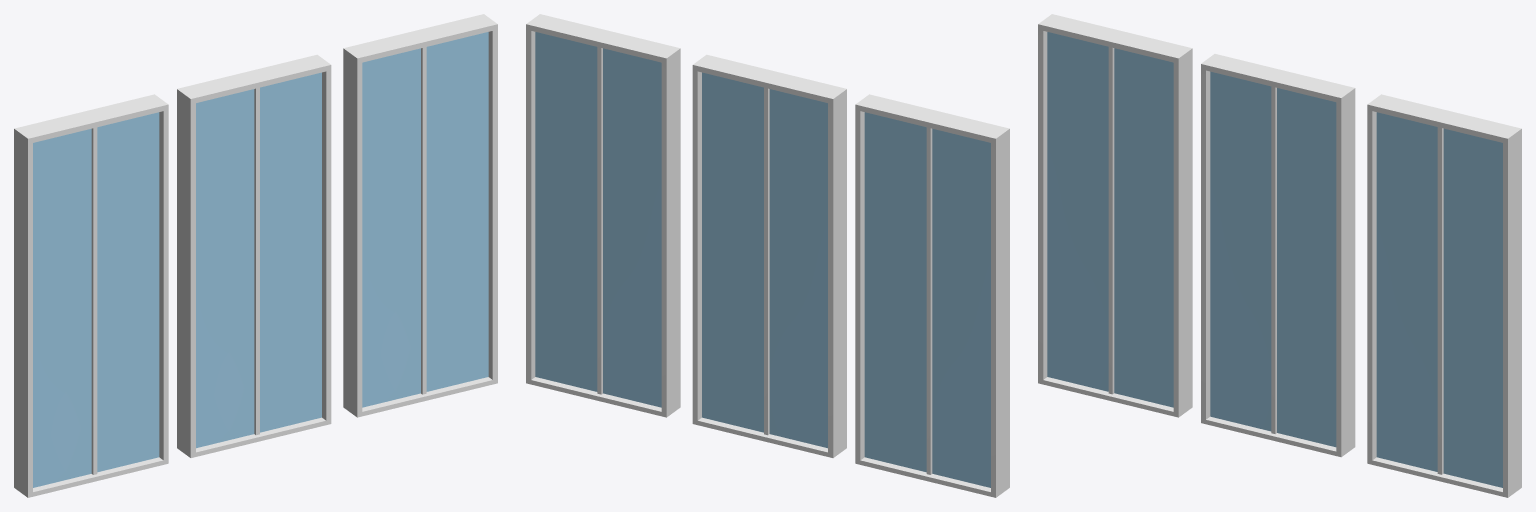
Rendered from window_001.fbx.
3 renders of one model, left to right at view 1: azimuth 30°, elevation 25°; view 2: azimuth 150°, elevation 25°; view 3: azimuth 330°, elevation 25°, orthographic.
Visible parts, largest first — view 1: window_001; view 2: window_001; view 3: window_001.
Boxes of the visible parts, x1,y1,x2,y2 form: window_001: (14,14,497,497); window_001: (526,14,1009,497); window_001: (1038,14,1521,497).
Size of the model in its own units: 362 by 18.62 by 265.
